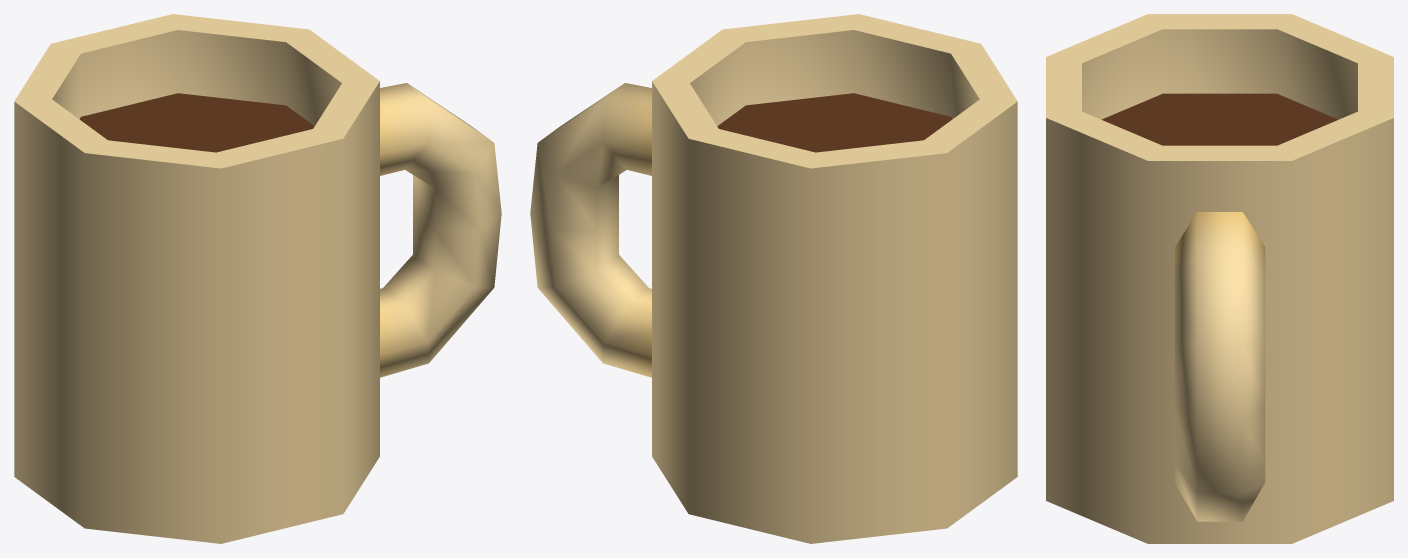
Rendered from SK_Mug.fbx.
3 views of the same model, side by side, from view 1: azimuth 30°, elevation 25°; view 2: azimuth 150°, elevation 25°; view 3: azimuth 270°, elevation 25° (orthographic). The views are drawn at different scales.
Parts seen in each view (by area): view 1: Circle, Circle.001; view 2: Circle, Circle.001; view 3: Circle, Circle.001.
Part boxes in pixels (box(x1,y1,x2,y2)): Circle: box(14, 14, 501, 543); Circle.001: box(79, 93, 314, 152); Circle: box(530, 14, 1017, 543); Circle.001: box(717, 93, 952, 152); Circle: box(1046, 14, 1393, 543); Circle.001: box(1101, 93, 1338, 145).
Size of the model in its own units: 28.73 by 23.37 by 19.22.
